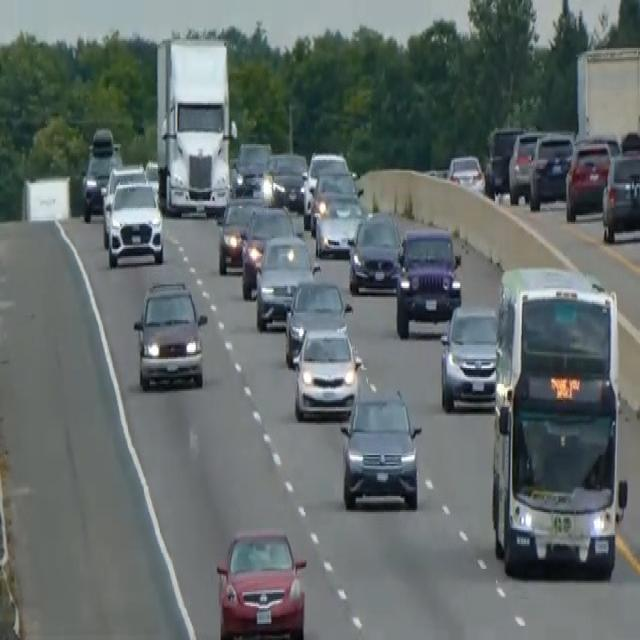bus: (489, 263, 628, 580)
car: (215, 524, 307, 638), (339, 384, 422, 510), (132, 277, 208, 391), (394, 224, 462, 338), (293, 322, 362, 421), (439, 300, 499, 412), (254, 233, 319, 331), (283, 278, 351, 367), (240, 202, 294, 298), (106, 180, 164, 266), (347, 208, 402, 295), (564, 137, 613, 220), (217, 192, 265, 274), (100, 162, 147, 244), (527, 130, 574, 210), (601, 148, 639, 242), (309, 167, 360, 233), (314, 192, 364, 258), (507, 128, 544, 204), (485, 124, 524, 196), (81, 151, 118, 221), (265, 149, 307, 208), (232, 138, 271, 196), (446, 151, 485, 196)
lorry: (154, 34, 235, 217)
